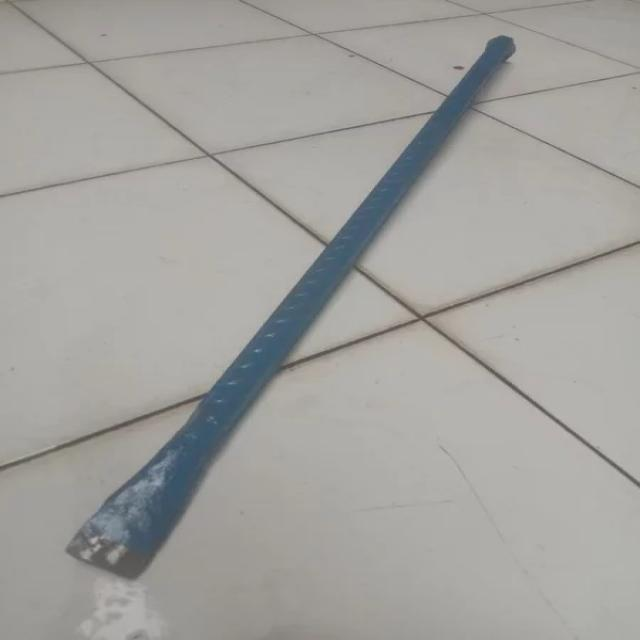Linggis: (66, 38, 519, 582)
